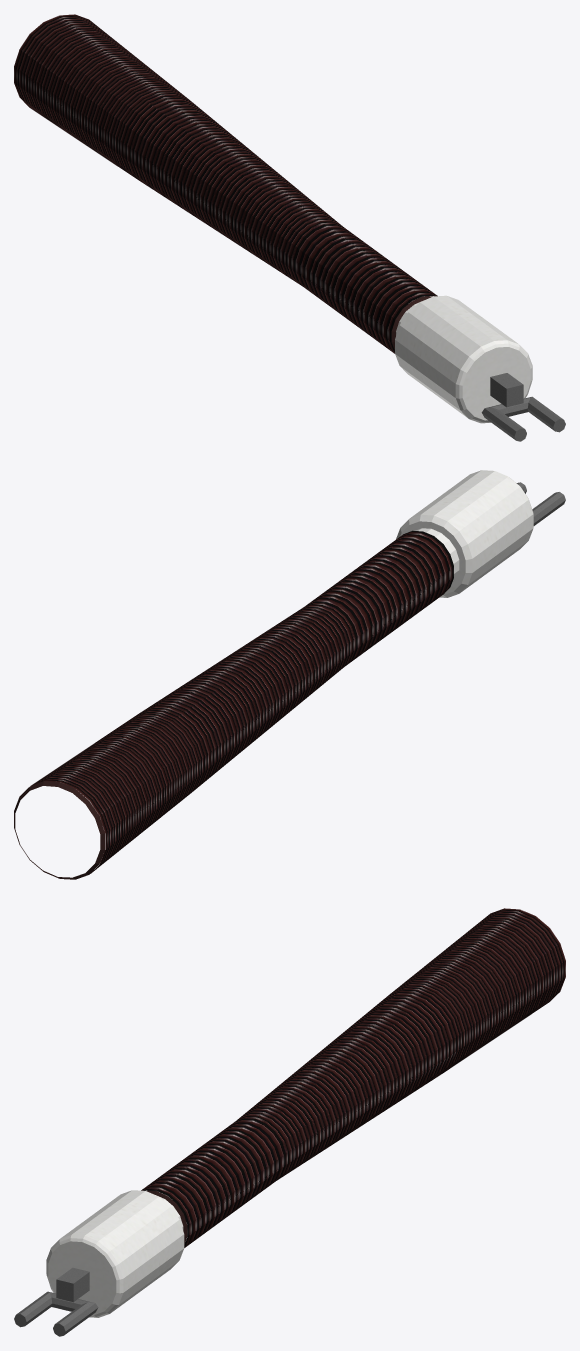
Rendered from 500kvtg005-geode.glb.
3 views of the same model, one above another, from view 1: azimuth 30°, elevation 25°; view 2: azimuth 150°, elevation 25°; view 3: azimuth 330°, elevation 25° (orthographic).
Parts seen in each view (by area): view 1: Node; view 2: Node; view 3: Node.
Boxes of the visible parts, box(x1,y1,x2,y2) form: Node: box(14, 14, 565, 441); Node: box(14, 470, 565, 879); Node: box(14, 908, 565, 1336).
Bounding box in the file's own units: 0.5721 × 0.5808 × 5.25.
4 materials, 4 textured.
